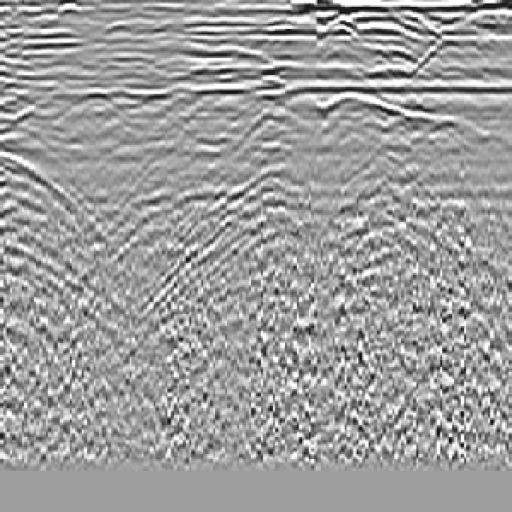metalic: (73, 46, 271, 301)
